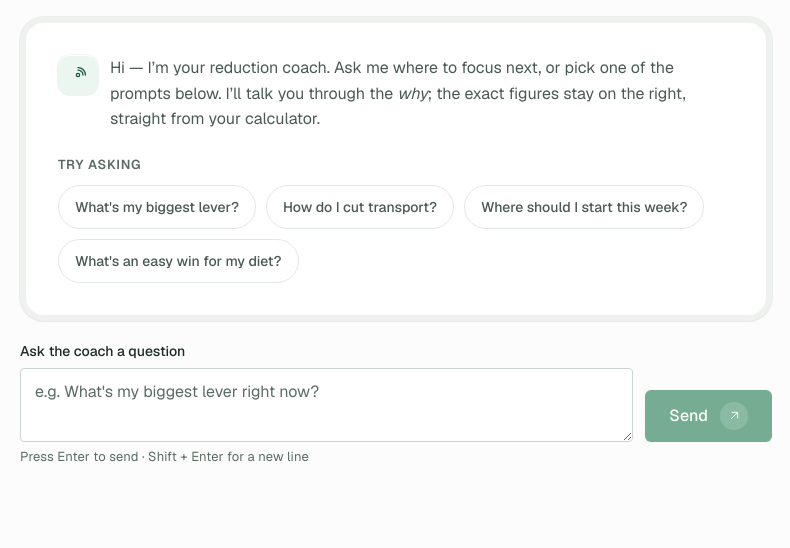
Test case: CoachPage › shows an accessible network-error that preserves the typed message
This screenshot has width=790, height=548.
Type "Help me out" into the text box labelled "Ask the coach a question". click: (327, 405)
box: left=20, top=368, right=633, bottom=442
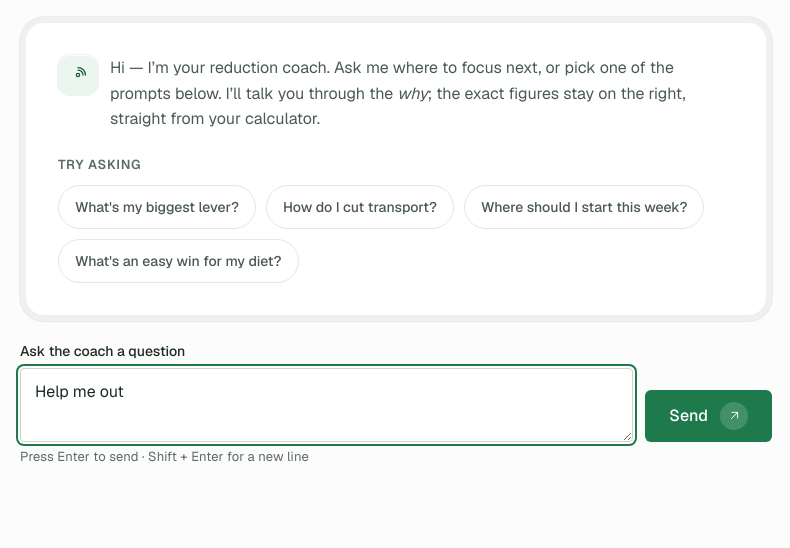
Click the button "Send". click: (709, 416)
box: left=645, top=390, right=772, bottom=442
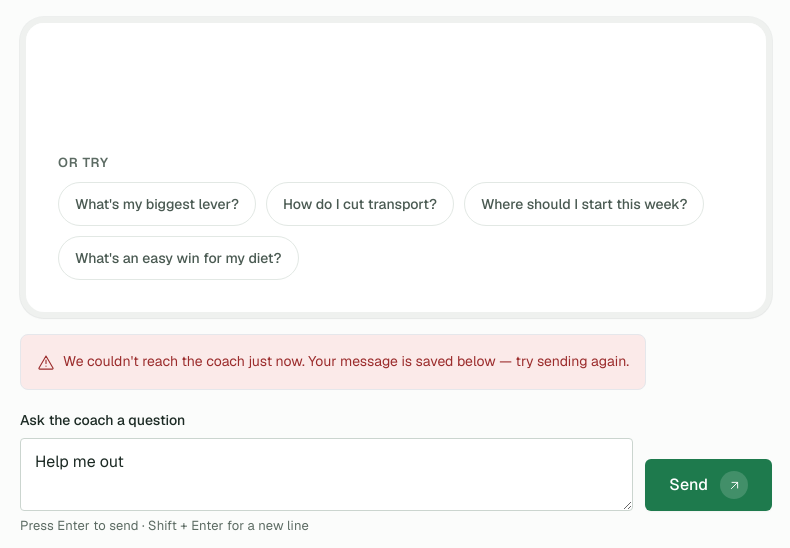
Result: the text "couldn't reach the coach" is shown at left=63, top=352, right=629, bottom=370
